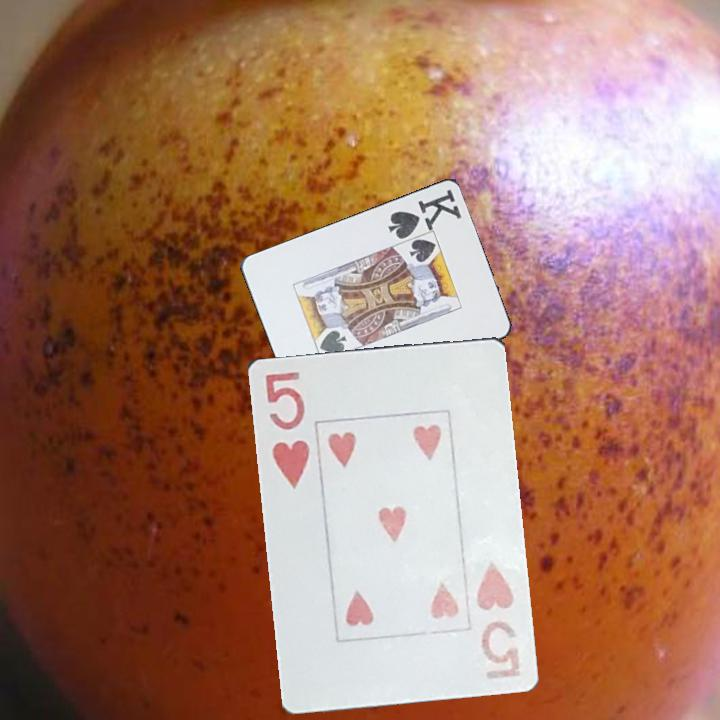5h: (472, 555, 525, 681), (261, 367, 312, 492)
Ks: (384, 186, 464, 243)
